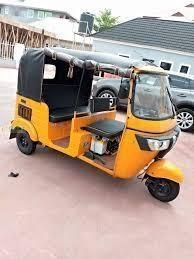keke: (9, 48, 186, 210), (9, 54, 186, 209)
